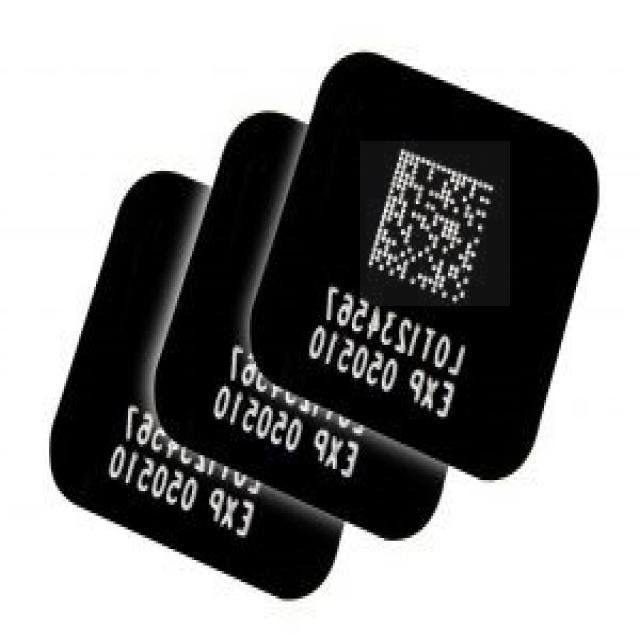Data-Matrix: (360, 141, 510, 306)
